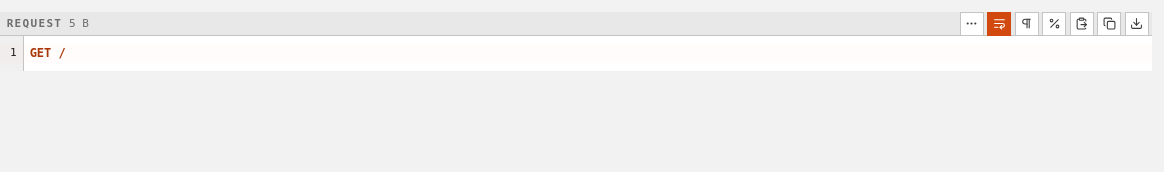
URL-encode as you type › on: only keystrokes are encoded, never a paste or a programmatic change
Expected: the element with class "cm-editor" is shown, [0,36,1152,71]
What coordinates should you click on to do the following:
click the button named "URL-encode as you type"
I would click on:
 (1054, 24)
Its box is [1042,12,1066,36].
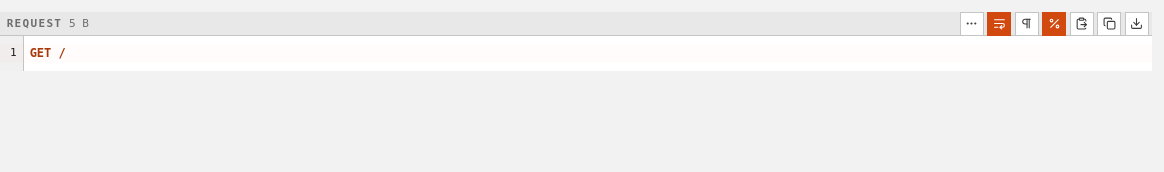
Expected: the button named "Stop URL-encoding as you type" is shown, [1042,12,1066,36]
